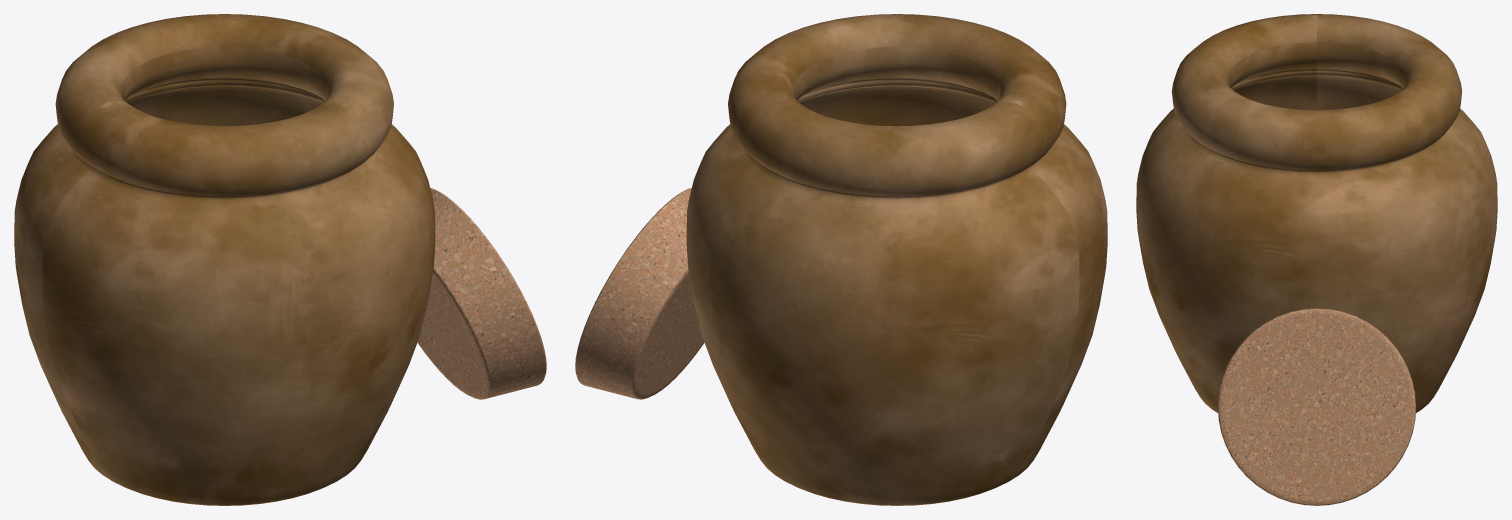
Rendered from realhoney.glb.
3 renders of one model, left to right at view 1: azimuth 30°, elevation 25°; view 2: azimuth 150°, elevation 25°; view 3: azimuth 270°, elevation 25°, orthographic. The views are drawn at different scales.
Parts seen in each view (by area): view 1: HoneyPot, HoneyPotCork; view 2: HoneyPot, HoneyPotCork; view 3: HoneyPot, HoneyPotCork.
Boxes of the visible parts, left/top/right/bottom form: HoneyPot: left=14, top=14, right=435, bottom=505; HoneyPotCork: left=417, top=188, right=546, bottom=399; HoneyPot: left=686, top=14, right=1107, bottom=505; HoneyPotCork: left=575, top=188, right=704, bottom=399; HoneyPot: left=1136, top=14, right=1497, bottom=412; HoneyPotCork: left=1217, top=308, right=1416, bottom=505.
Bounding box in the file's own units: 0.1841 × 0.14 × 0.1424.
2 materials, 2 textured.
